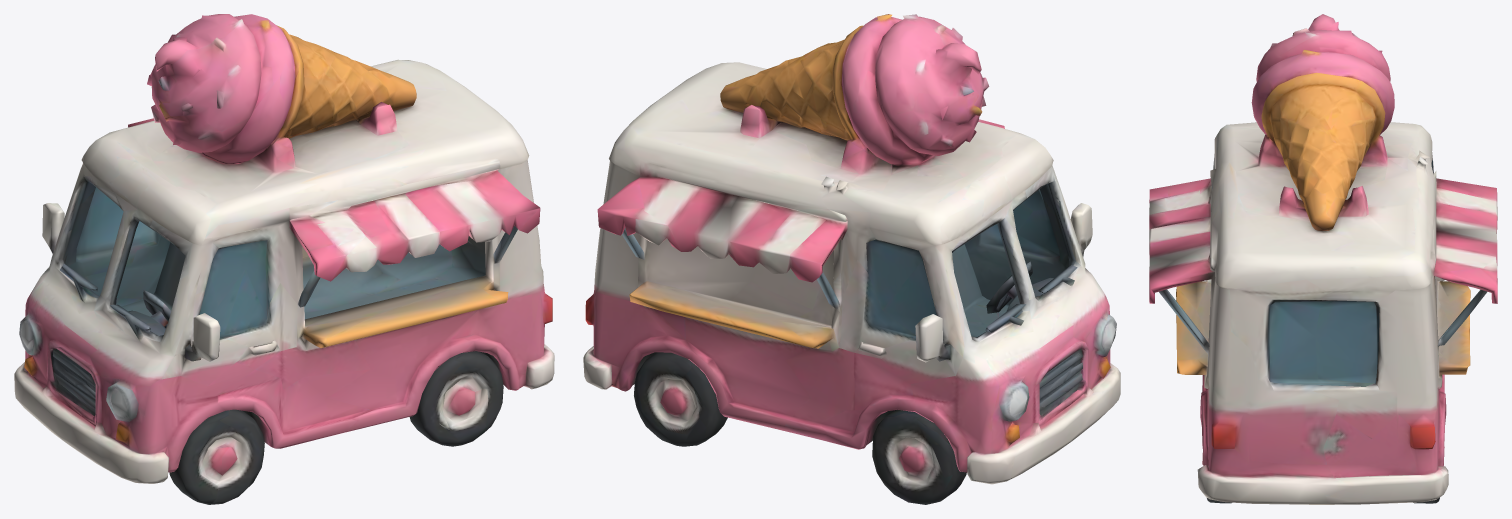
The model's file is icecream.glb.
3 views of the same model, side by side, from view 1: azimuth 30°, elevation 25°; view 2: azimuth 150°, elevation 25°; view 3: azimuth 270°, elevation 25° (orthographic). The views are drawn at different scales.
Visible parts, largest first — view 1: icecream-node; view 2: icecream-node; view 3: icecream-node.
Part boxes in pixels (box(x1,y1,x2,y2)): icecream-node: box(14, 14, 554, 504); icecream-node: box(583, 14, 1120, 504); icecream-node: box(1149, 14, 1497, 504).
Bounding box in the file's own units: 1.08 × 1 × 0.8069.
1 material, 1 textured.
